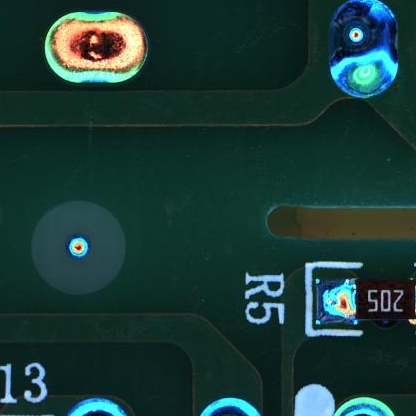spot: (44, 11, 149, 83), (329, 1, 400, 101), (64, 232, 91, 262)
